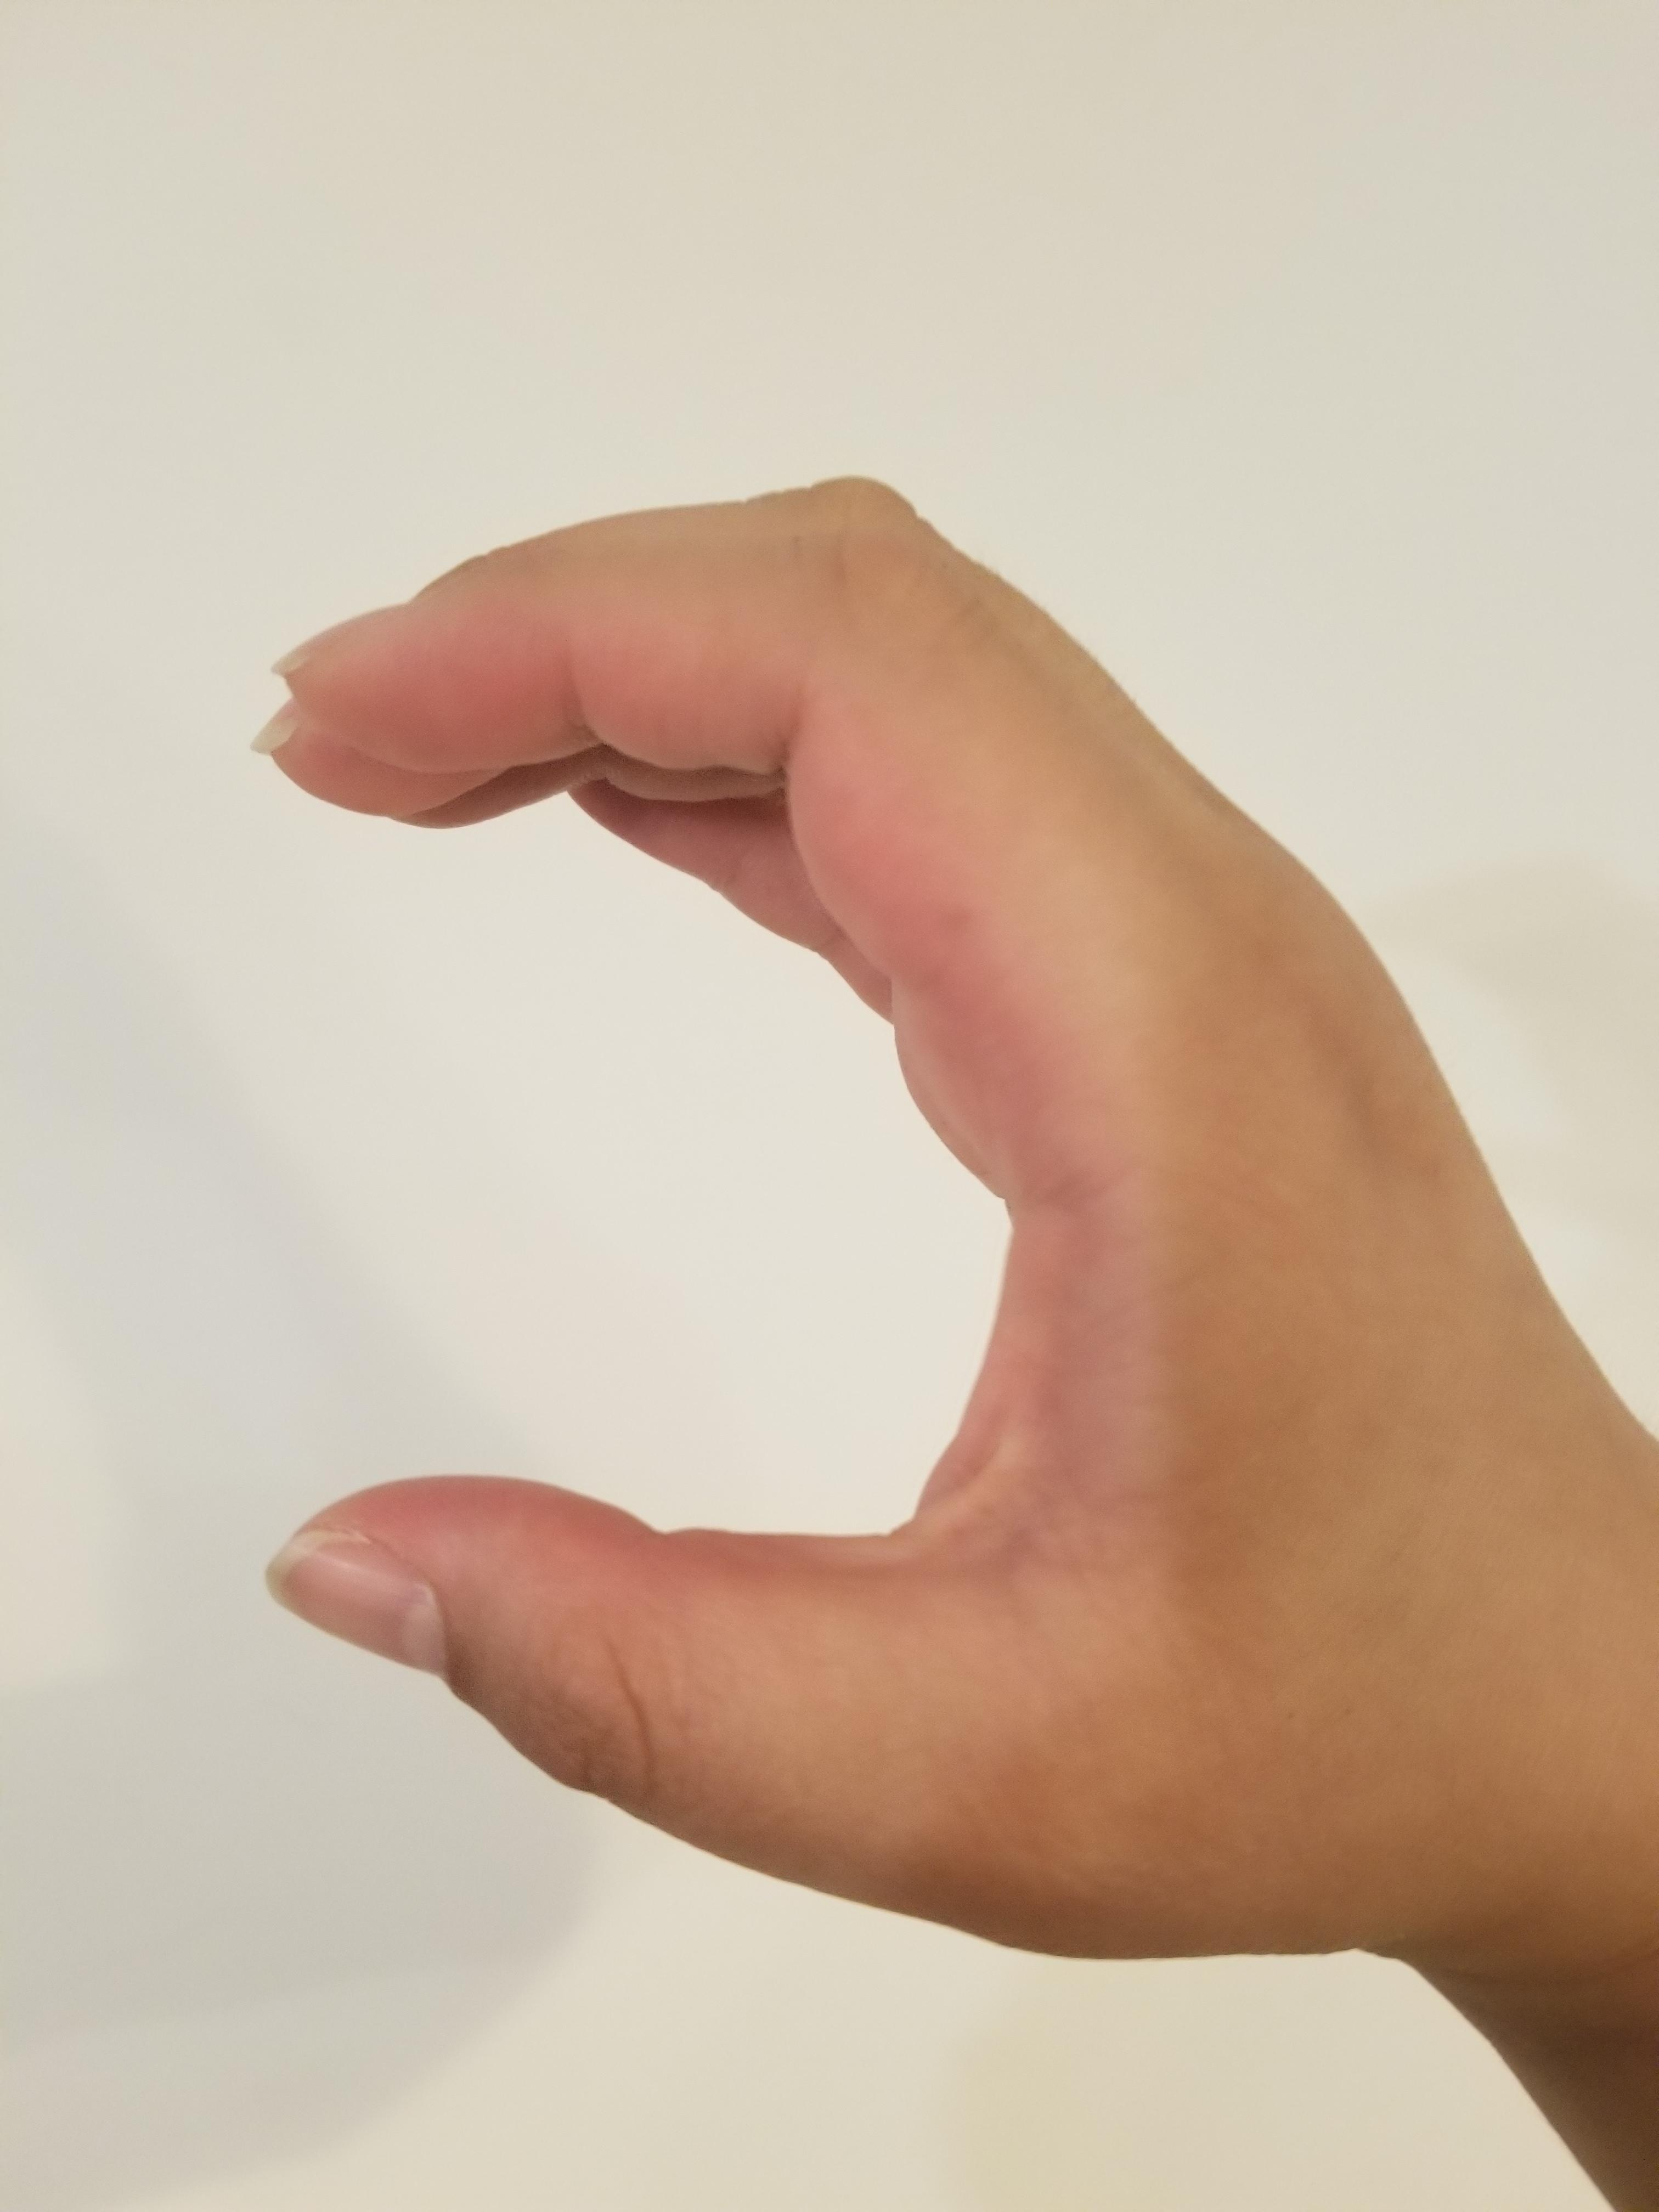C: (215, 461, 1614, 1994)
